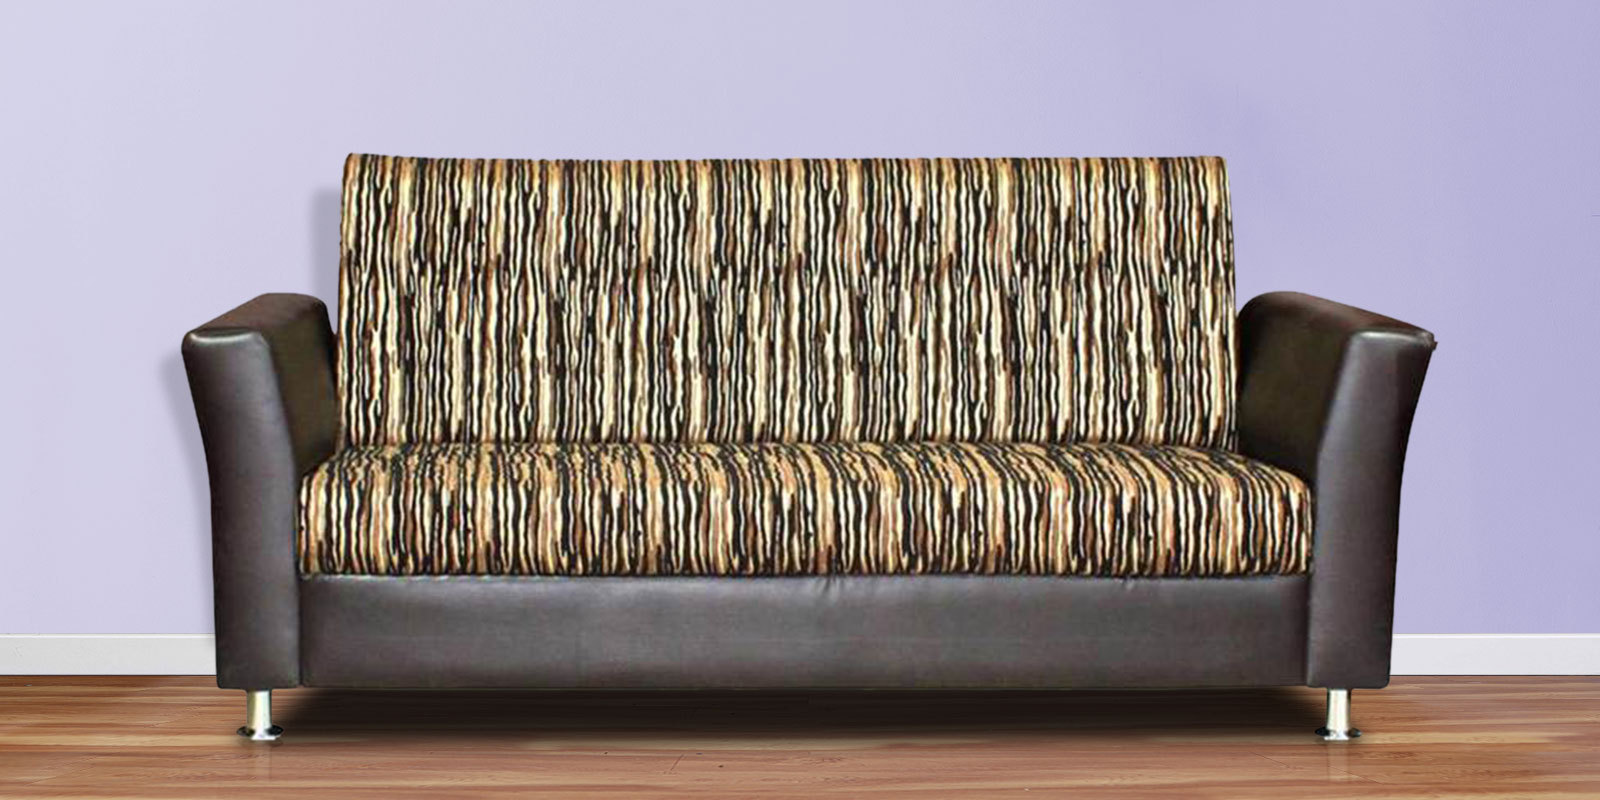Eartigo Three Seater Sofa in Brown Colour by Crystal Furnitech: (171, 122, 1481, 760)
